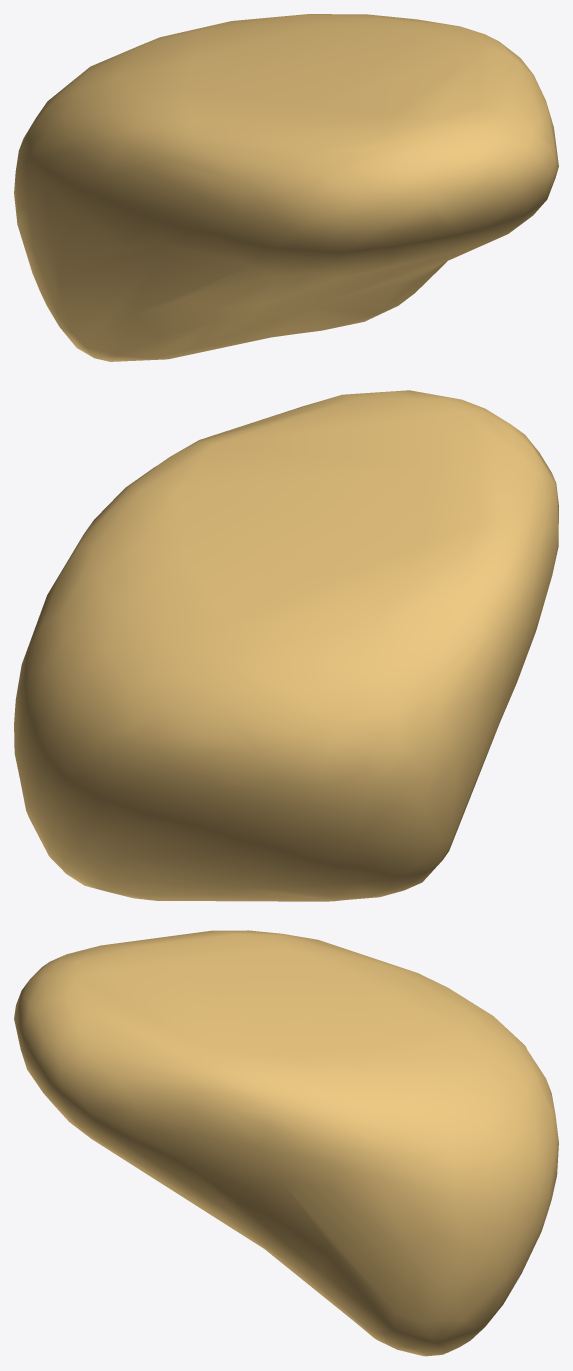
The model's file is nervoso-tuber-of-vermis.glb.
3 views of the same model, one above another, from view 1: azimuth 30°, elevation 25°; view 2: azimuth 150°, elevation 25°; view 3: azimuth 270°, elevation 25° (orthographic). The views are drawn at different scales.
Parts seen in each view (by area): view 1: Tuber of vermis; view 2: Tuber of vermis; view 3: Tuber of vermis.
Boxes of the visible parts, <box> form: Tuber of vermis: <box>14,14,558,361</box>; Tuber of vermis: <box>14,390,558,901</box>; Tuber of vermis: <box>14,930,558,1356</box>.
Size of the model in its own units: 0.0151 by 0.0126 by 0.019.
